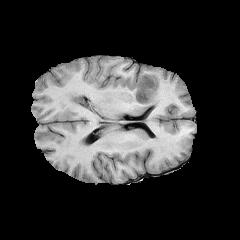glioma: (60, 74, 158, 117)
